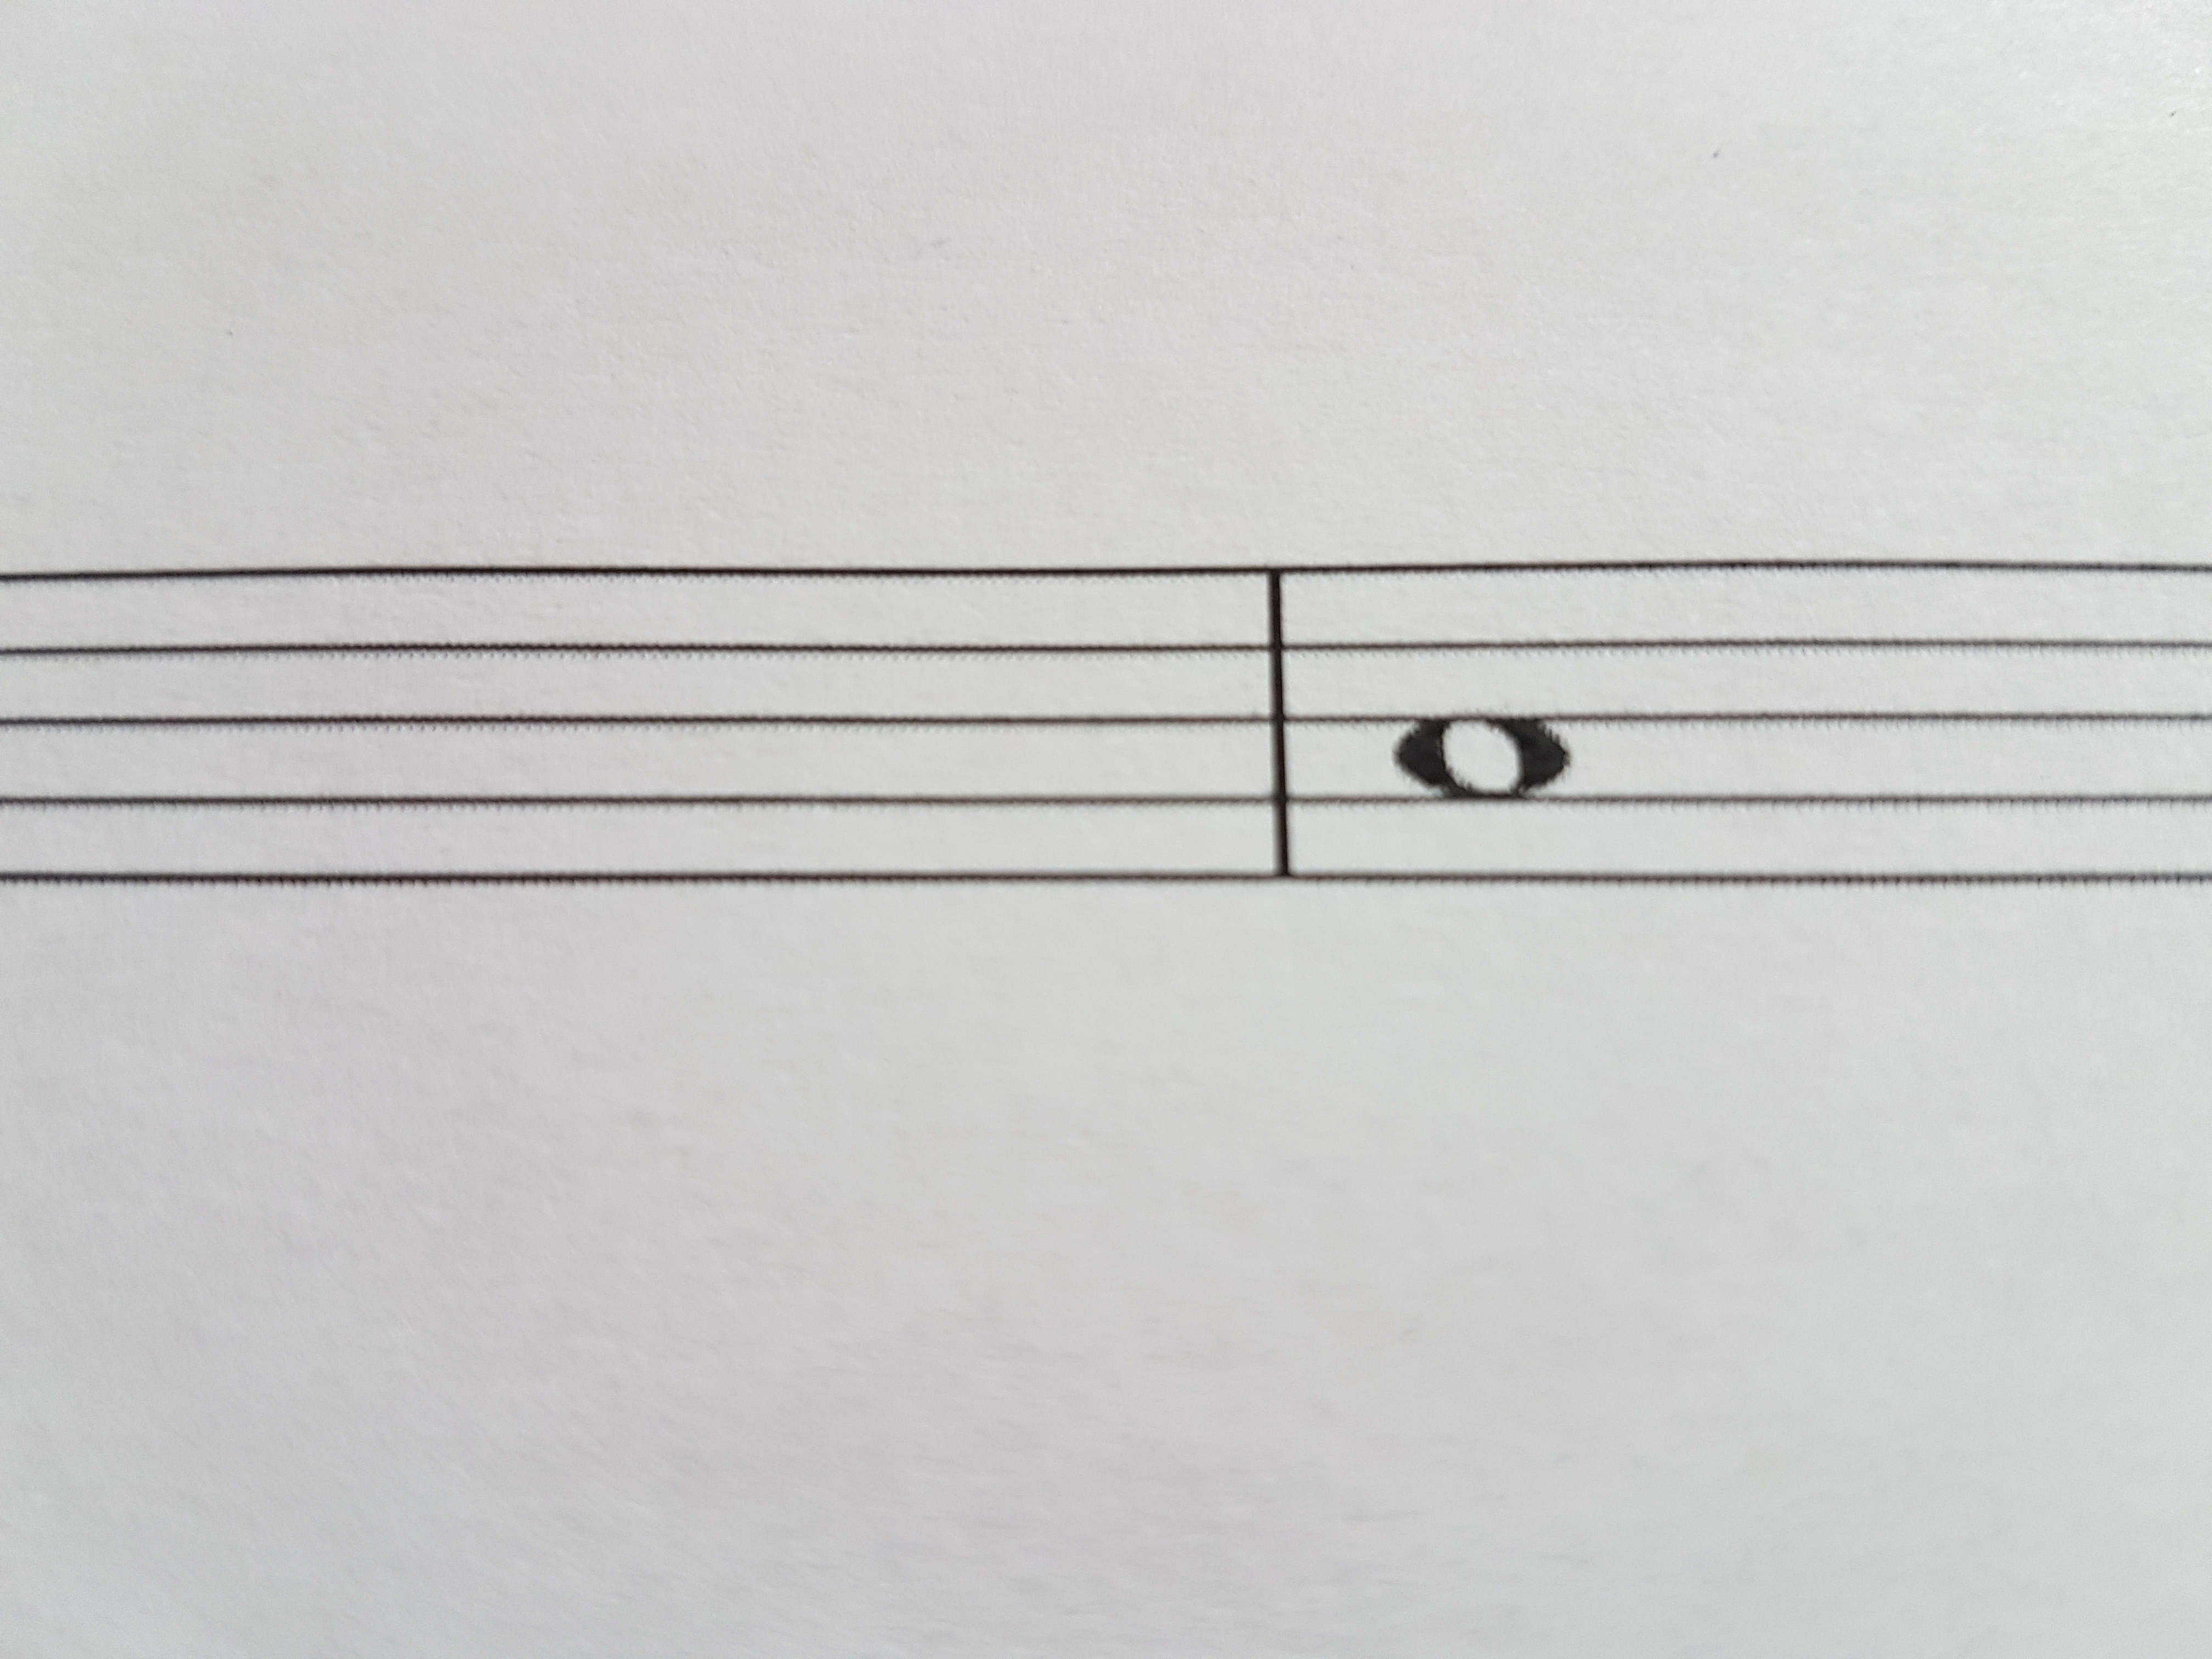pipe: (1240, 544, 1322, 908)
semibreve_a: (1362, 469, 1588, 1000)
